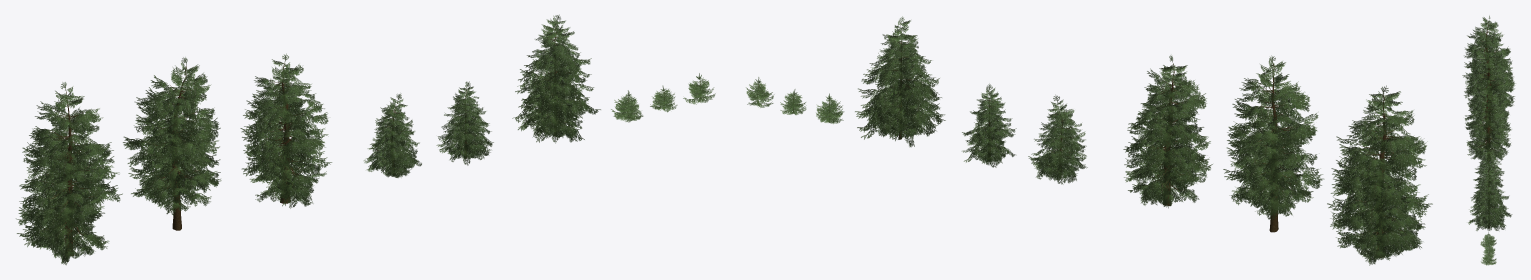
Rendered from trees_fir_pack.glb.
The picture shows the model from 3 angles, left to right: view 1: azimuth 30°, elevation 25°; view 2: azimuth 150°, elevation 25°; view 3: azimuth 270°, elevation 25°; orthographic projection. The views are drawn at different scales.
Parts seen in each view (by area): view 1: Christmas tree_LOD0, Christmas tree_2_LOD0, Christmas tree_3_LOD0, Christmas tree_6_LOD0, Christmas tree_4_LOD0, Christmas tree_5_LOD0, Christmas tree_7_LOD0, Christmas tree_9_LOD0, Christmas tree_8_LOD0; view 2: Christmas tree_LOD0, Christmas tree_2_LOD0, Christmas tree_3_LOD0, Christmas tree_6_LOD0, Christmas tree_4_LOD0, Christmas tree_5_LOD0, Christmas tree_7_LOD0, Christmas tree_9_LOD0, Christmas tree_8_LOD0; view 3: Christmas tree_3_LOD0, Christmas tree_2_LOD0, Christmas tree_6_LOD0, Christmas tree_LOD0, Christmas tree_4_LOD0, Christmas tree_7_LOD0, Christmas tree_9_LOD0, Christmas tree_5_LOD0, Christmas tree_8_LOD0.
Part boxes in pixels (left/top/right/bottom): Christmas tree_LOD0: left=16, top=82, right=122, bottom=265; Christmas tree_2_LOD0: left=123, top=57, right=221, bottom=230; Christmas tree_3_LOD0: left=240, top=53, right=331, bottom=208; Christmas tree_6_LOD0: left=512, top=14, right=600, bottom=143; Christmas tree_4_LOD0: left=364, top=93, right=421, bottom=177; Christmas tree_5_LOD0: left=436, top=81, right=493, bottom=165; Christmas tree_7_LOD0: left=611, top=90, right=643, bottom=122; Christmas tree_9_LOD0: left=683, top=73, right=715, bottom=104; Christmas tree_8_LOD0: left=650, top=85, right=677, bottom=112; Christmas tree_LOD0: left=1327, top=85, right=1432, bottom=265; Christmas tree_2_LOD0: left=1223, top=55, right=1324, bottom=232; Christmas tree_3_LOD0: left=1123, top=55, right=1212, bottom=208; Christmas tree_6_LOD0: left=855, top=16, right=945, bottom=147; Christmas tree_4_LOD0: left=1028, top=95, right=1087, bottom=184; Christmas tree_5_LOD0: left=962, top=83, right=1016, bottom=167; Christmas tree_7_LOD0: left=816, top=93, right=844, bottom=123; Christmas tree_9_LOD0: left=746, top=77, right=774, bottom=107; Christmas tree_8_LOD0: left=780, top=89, right=806, bottom=114; Christmas tree_3_LOD0: left=1465, top=83, right=1511, bottom=160; Christmas tree_2_LOD0: left=1464, top=45, right=1515, bottom=122; Christmas tree_6_LOD0: left=1468, top=165, right=1512, bottom=230; Christmas tree_LOD0: left=1462, top=15, right=1514, bottom=103; Christmas tree_4_LOD0: left=1473, top=146, right=1504, bottom=186; Christmas tree_7_LOD0: left=1480, top=232, right=1496, bottom=247; Christmas tree_9_LOD0: left=1481, top=250, right=1496, bottom=265; Christmas tree_5_LOD0: left=1474, top=166, right=1501, bottom=207; Christmas tree_8_LOD0: left=1483, top=243, right=1495, bottom=255.
Size of what is drawn, in the model's own units: 38.28 by 9.31 by 5.12.
2 materials, 2 textured.
